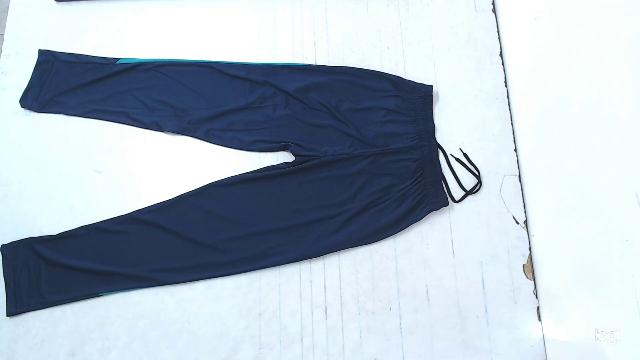new-garment: (0, 50, 453, 316)
